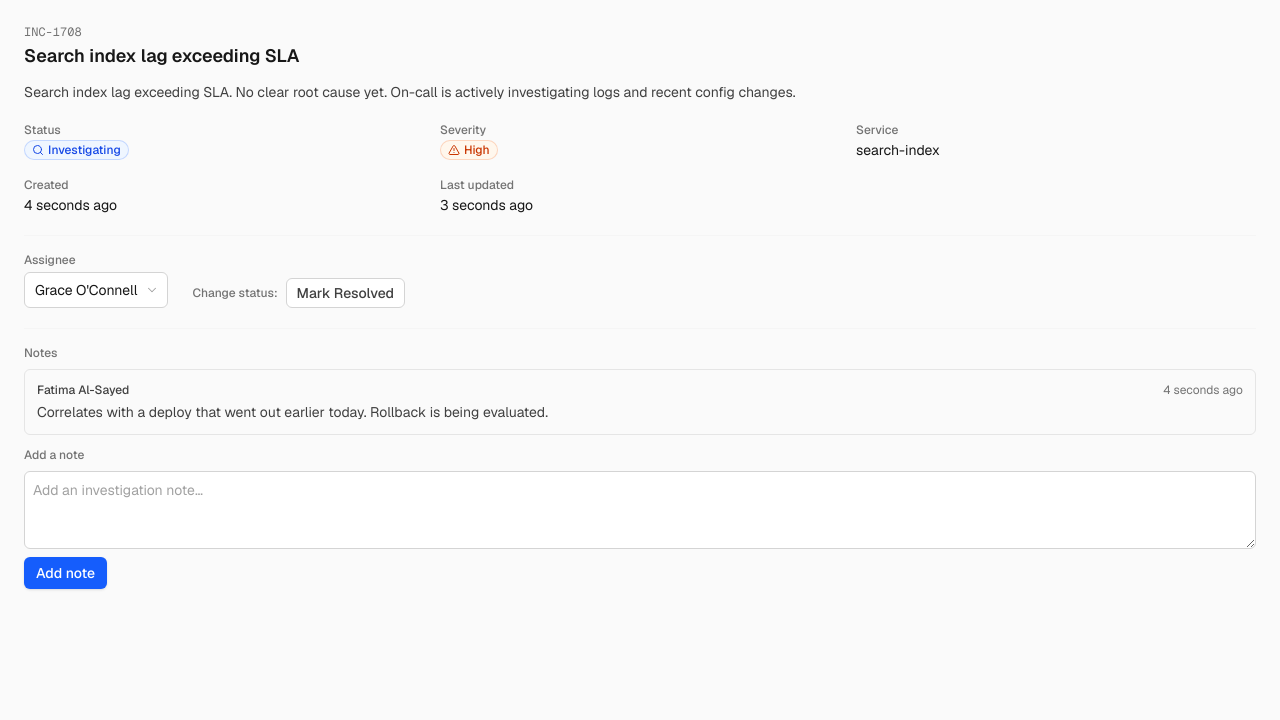
Test: IncidentDetailContent › adds a note and clears the field on success
Expected: the heading "Search index lag exceeding SLA" is shown, [24, 44, 300, 67]
Type "Rotated the affected credentials." into the text box labelled "Add a note".
click(640, 510); type("Rotated the affected credentials.")  # box [24, 471, 1256, 549]
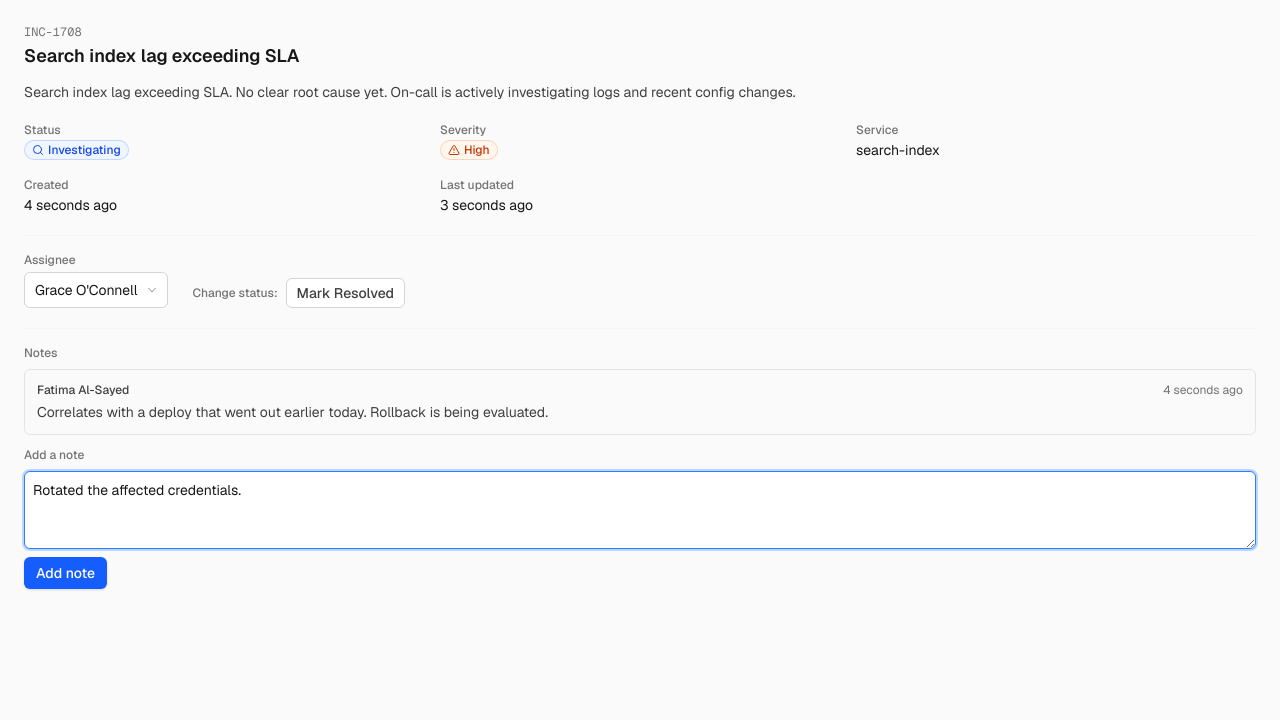
Click the button "Add note".
click(66, 573)  # box [24, 557, 107, 589]
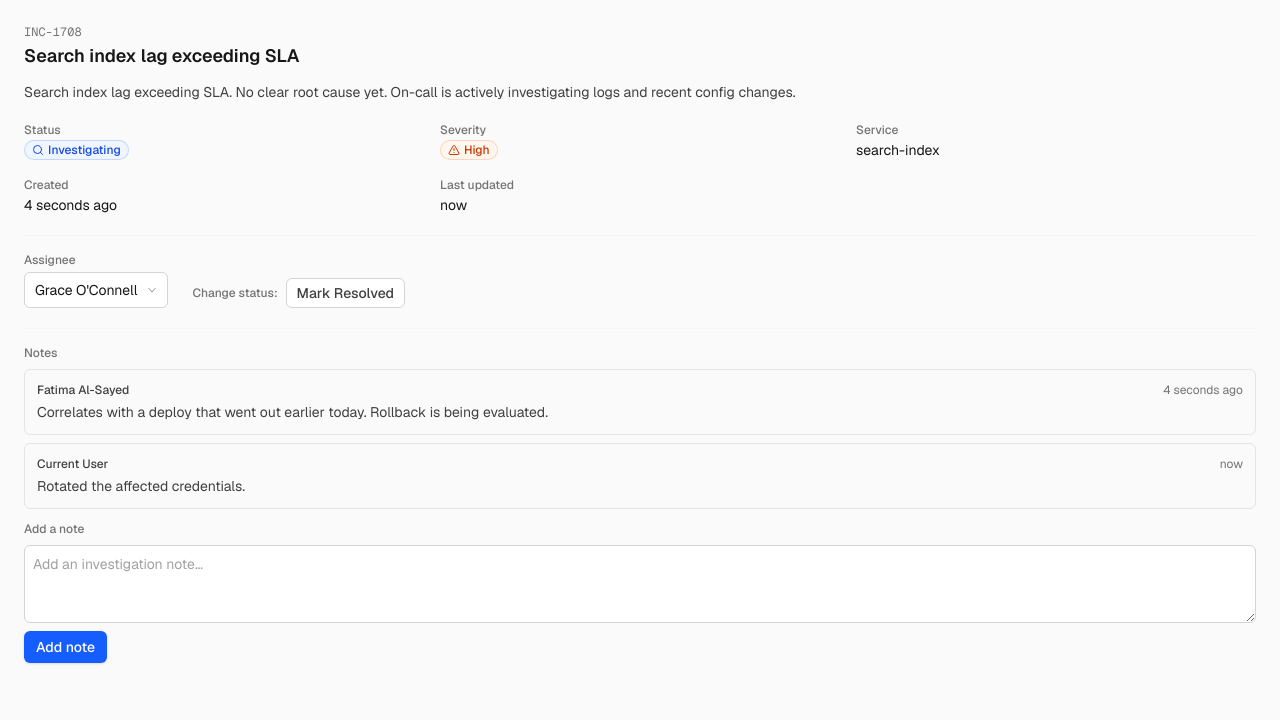
Expected: the text box labelled "Add a note" is empty, [24, 545, 1256, 623]
Expected: the text "Rotated the affected credentials." is shown, [37, 477, 245, 495]
